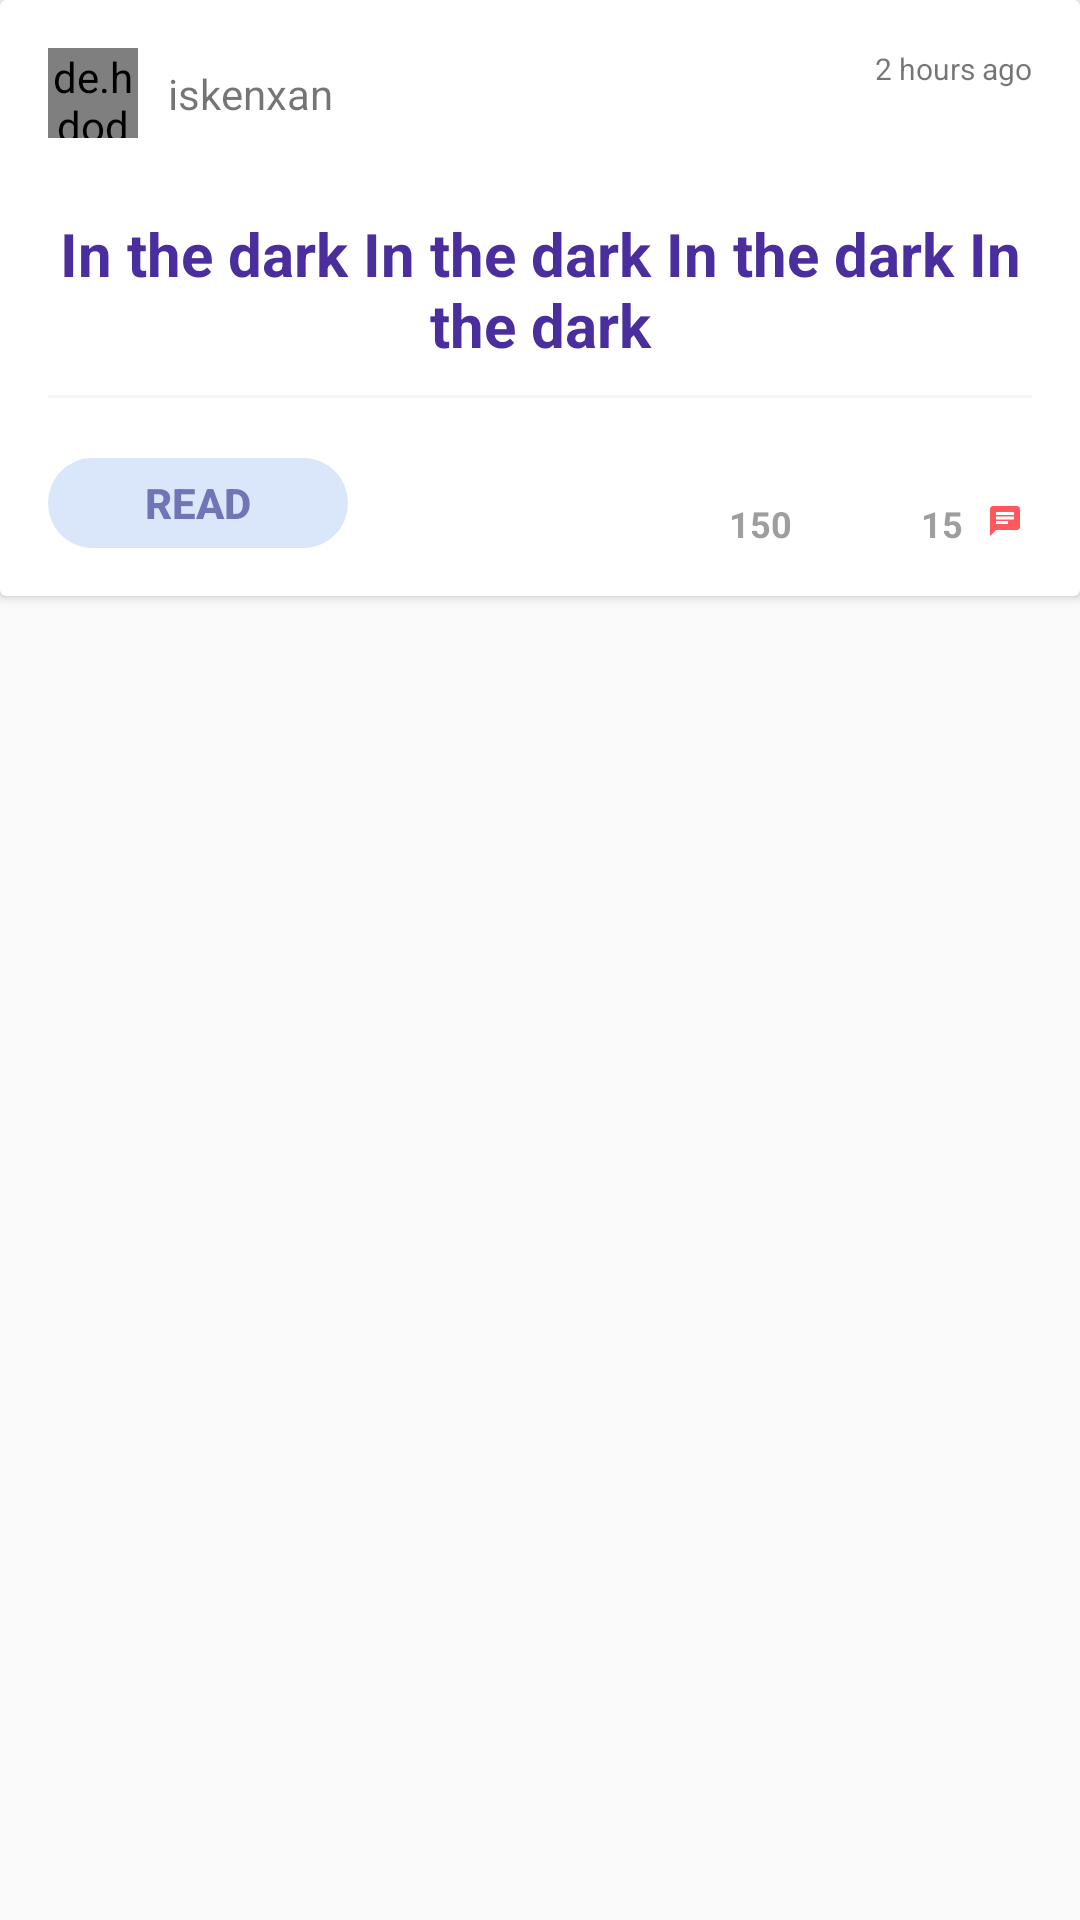

Screen size 1080w x 1920h. Icon name, then its box in pixels as [x1,y1,x2,y2]:
comment: [990,506,1020,536]
